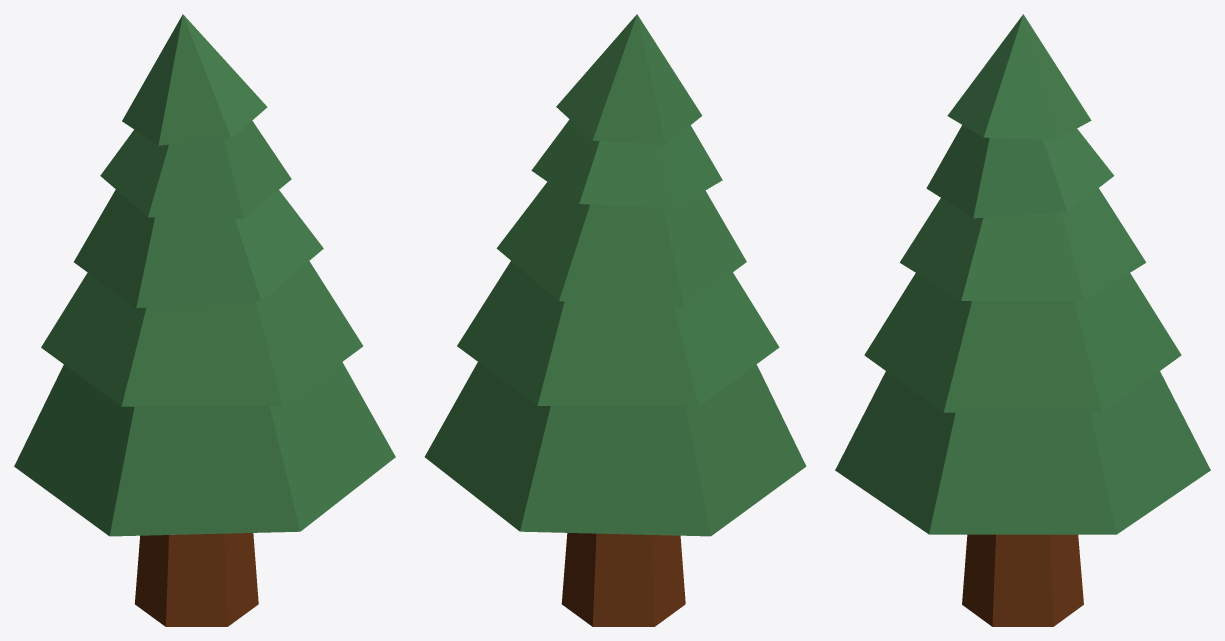
Rendered from Clouds.fbx_Collection.fbx.
3 renders of one model, left to right at view 1: azimuth 30°, elevation 25°; view 2: azimuth 150°, elevation 25°; view 3: azimuth 270°, elevation 25°, orthographic.
Parts seen in each view (by area): view 1: Cylinder.001, Cylinder.002, Cylinder.004, Cylinder.005, Cylinder.003, Cylinder; view 2: Cylinder.001, Cylinder.002, Cylinder.004, Cylinder.005, Cylinder.003, Cylinder; view 3: Cylinder.001, Cylinder.002, Cylinder.004, Cylinder.005, Cylinder, Cylinder.003.
Part boxes in pixels (x1,y1,x2,y2): Cylinder.001: [14, 362, 395, 536]; Cylinder.002: [41, 261, 363, 406]; Cylinder.004: [74, 189, 323, 307]; Cylinder.005: [100, 120, 291, 218]; Cylinder.003: [122, 14, 267, 145]; Cylinder: [135, 533, 258, 626]; Cylinder.001: [424, 362, 806, 536]; Cylinder.002: [457, 261, 779, 406]; Cylinder.004: [496, 182, 746, 307]; Cylinder.005: [531, 119, 722, 208]; Cylinder.003: [556, 14, 702, 144]; Cylinder: [561, 533, 685, 626]; Cylinder.001: [835, 371, 1210, 534]; Cylinder.002: [864, 273, 1181, 412]; Cylinder.004: [900, 188, 1145, 300]; Cylinder.005: [926, 125, 1113, 218]; Cylinder: [962, 534, 1083, 626]; Cylinder.003: [947, 14, 1091, 139].
Bounding box in the file's own units: 267 × 528 × 308.
